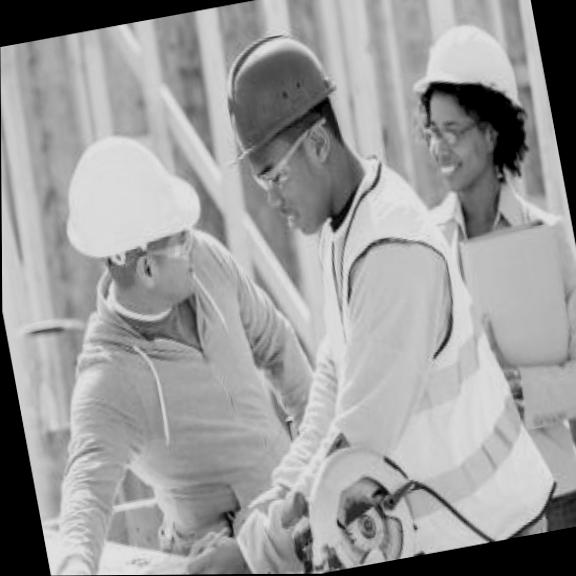no_safety_vest: (59, 231, 305, 576), (455, 190, 576, 476)
safety_vest: (310, 152, 535, 562)
